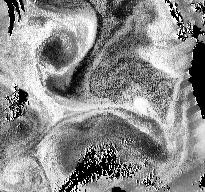AE: (18, 14, 84, 82)
